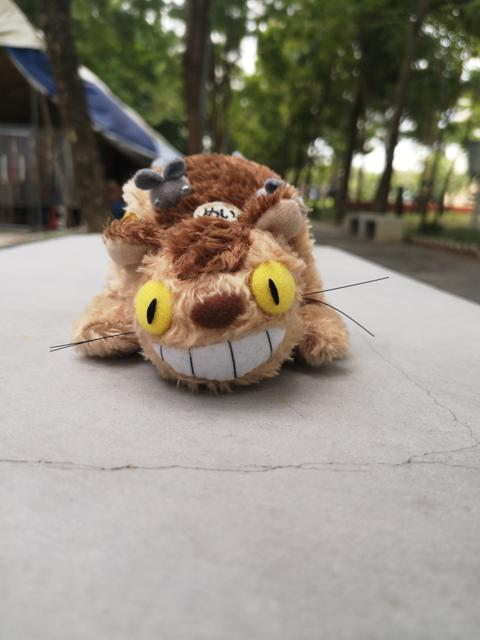nekobus: (47, 146, 395, 400)
